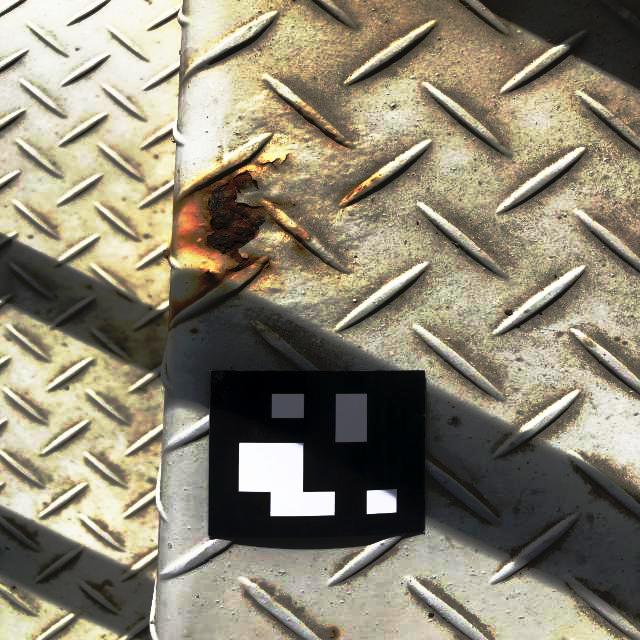Corrosion: (193, 168, 307, 285), (163, 250, 170, 259)
